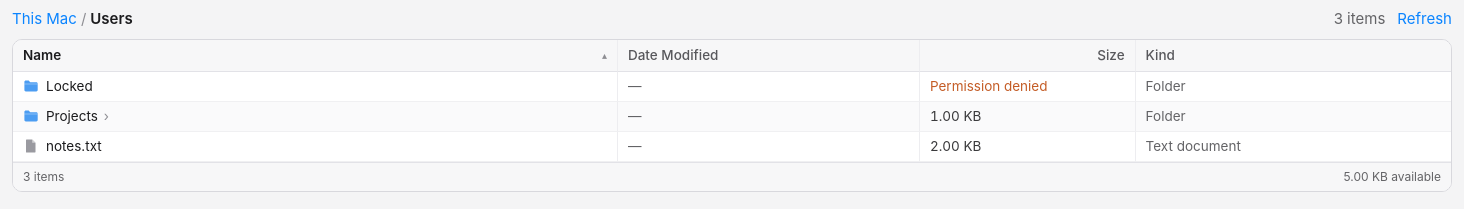
Test case: BrowseView › toggles sort direction from the column headers
The image size is (1464, 209).
Click the button "Name ▴".
click(42, 55)  # box [13,40,617,71]
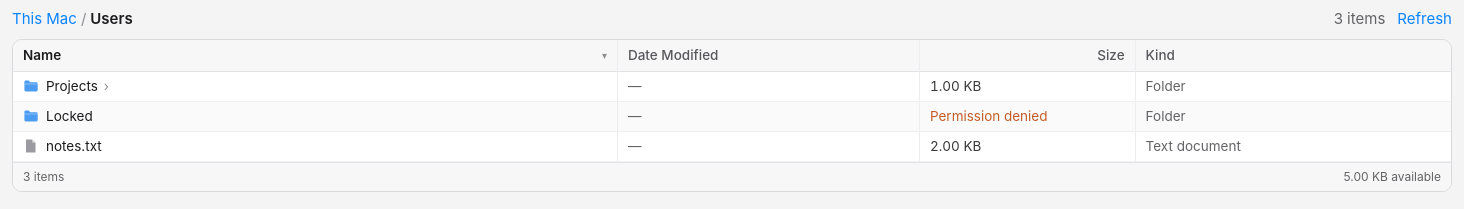
Click the button "Size".
click(1027, 55)  # box [920,40,1135,71]
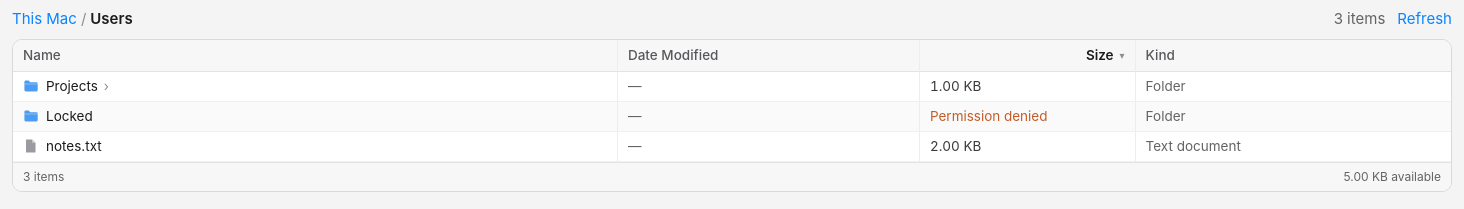
Result: the column heading "Size ▾" has attribute aria-sort="descending" at [919,40,1135,72]
Result: the column heading "Name" has attribute aria-sort="none" at [13,40,617,72]
